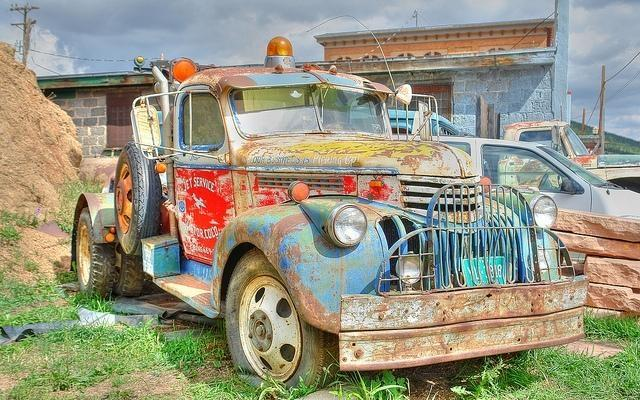car: (396, 135, 640, 221)
truck: (70, 35, 594, 388), (502, 120, 640, 194)
